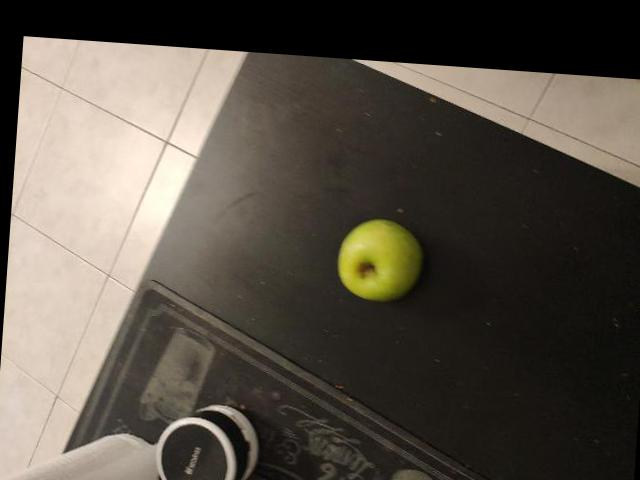apple: (161, 85, 273, 224)
